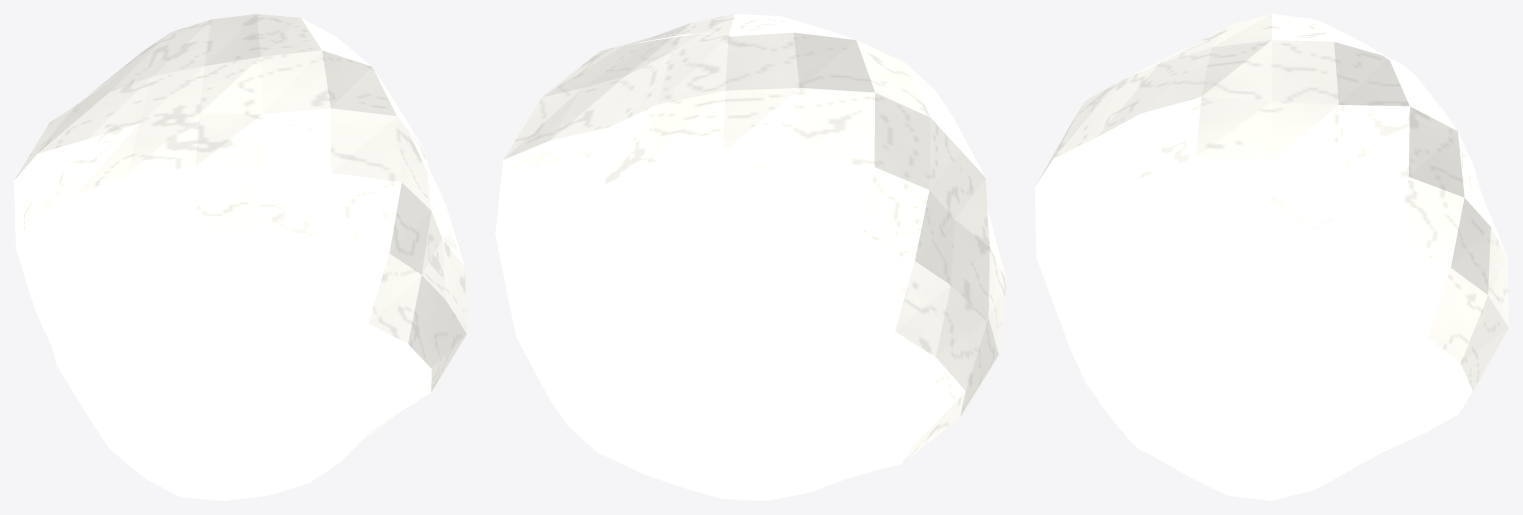
File: level.gltf
The picture shows the model from 3 angles, left to right: view 1: azimuth 30°, elevation 25°; view 2: azimuth 150°, elevation 25°; view 3: azimuth 270°, elevation 25°; orthographic projection. The views are drawn at different scales.
Parts seen in each view (by area): view 1: P_Ball_Paper_MF; view 2: P_Ball_Paper_MF; view 3: P_Ball_Paper_MF.
Boxes of the visible parts, x1,y1,x2,y2 form: P_Ball_Paper_MF: (14, 14, 466, 500); P_Ball_Paper_MF: (495, 14, 1006, 500); P_Ball_Paper_MF: (1035, 14, 1508, 500).
Bounding box in the file's own units: 4.01 × 4 × 4.
1 material, 1 textured.
